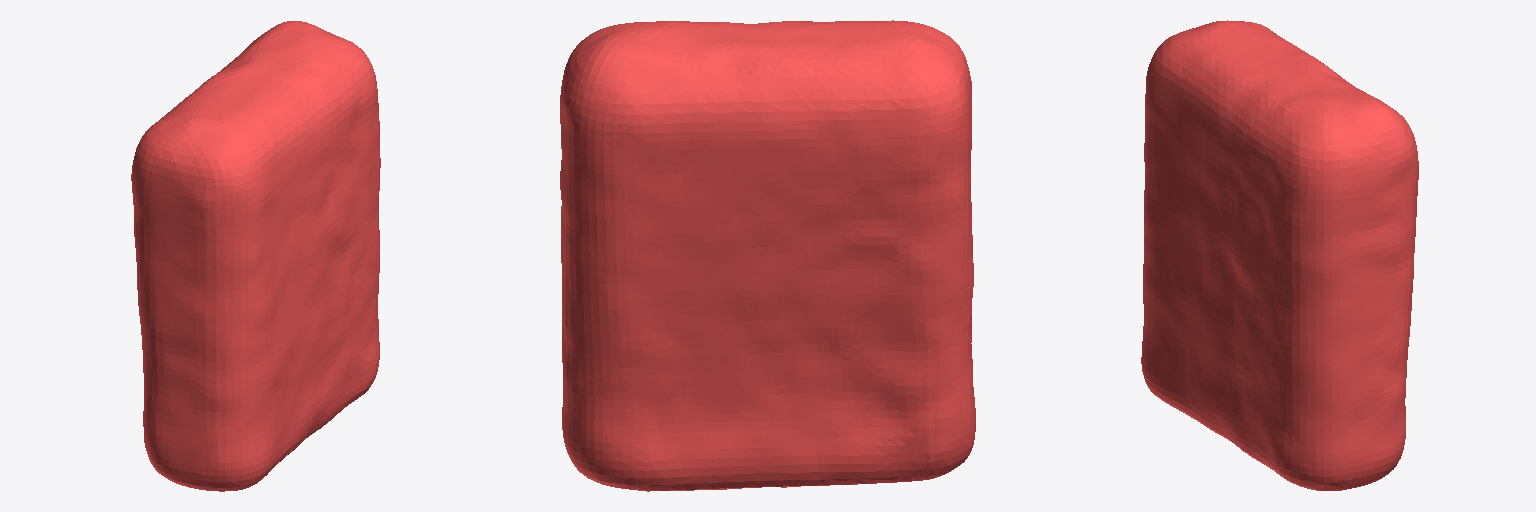
robot.urdf — pudding:
<?xml version="1.0"?>
<robot name="pudding">
    <link name="baselink">
        <inertial>
            <origin rpy="0 0 0" xyz="0 0 0"/>
            <mass value=".1"/>
            <inertia ixx="1" ixy="0" ixz="0" iyy="1" iyz="0" izz="1"/>
        </inertial>
        <visual>
            <origin rpy="0 0 0" xyz="0 0 0"/>
            <geometry>
                <mesh filename="package://panda_simulation/meshes/pudding.dae"/>
            </geometry>
            <material name="red">
                <color rgba="1 0.4 0.4 1"/>
            </material>
        </visual>
        <collision>
            <origin rpy="0 0 0" xyz="0 0 0"/>
            <geometry>
                <mesh filename="package://panda_simulation/meshes/pudding.dae"/>
            </geometry>
            <surface>
                <friction>
                    <ode>
                        <mu>10</mu>
                        <mu2>10</mu2>
                    </ode>
                </friction>
            </surface>
        </collision>
    </link>
</robot>

--- Render facts (derived) ---
3 views of the same robot in one strip: view 1: azimuth 30°, elevation 25°; view 2: azimuth 150°, elevation 25°; view 3: azimuth 270°, elevation 25° (orthographic).
Robot: pudding — 1 links, 0 joints (none); root link baselink; default pose: every joint at zero.
Links seen in each view (by area): view 1: baselink; view 2: baselink; view 3: baselink.
Link boxes in pixels (x1=…): baselink: x1=131, y1=21, x2=380, y2=491; baselink: x1=560, y1=20, x2=975, y2=491; baselink: x1=1141, y1=20, x2=1418, y2=490.
Bounding box of the posed robot: 0.0898 × 0.0746 × 0.1119 m (x, y, z).
Meshes: 1 distinct files referenced, 1 mesh visuals loaded (1 Collada DAE).